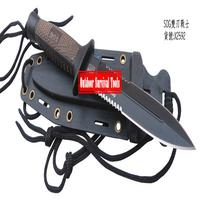knife: (21, 8, 197, 156)
